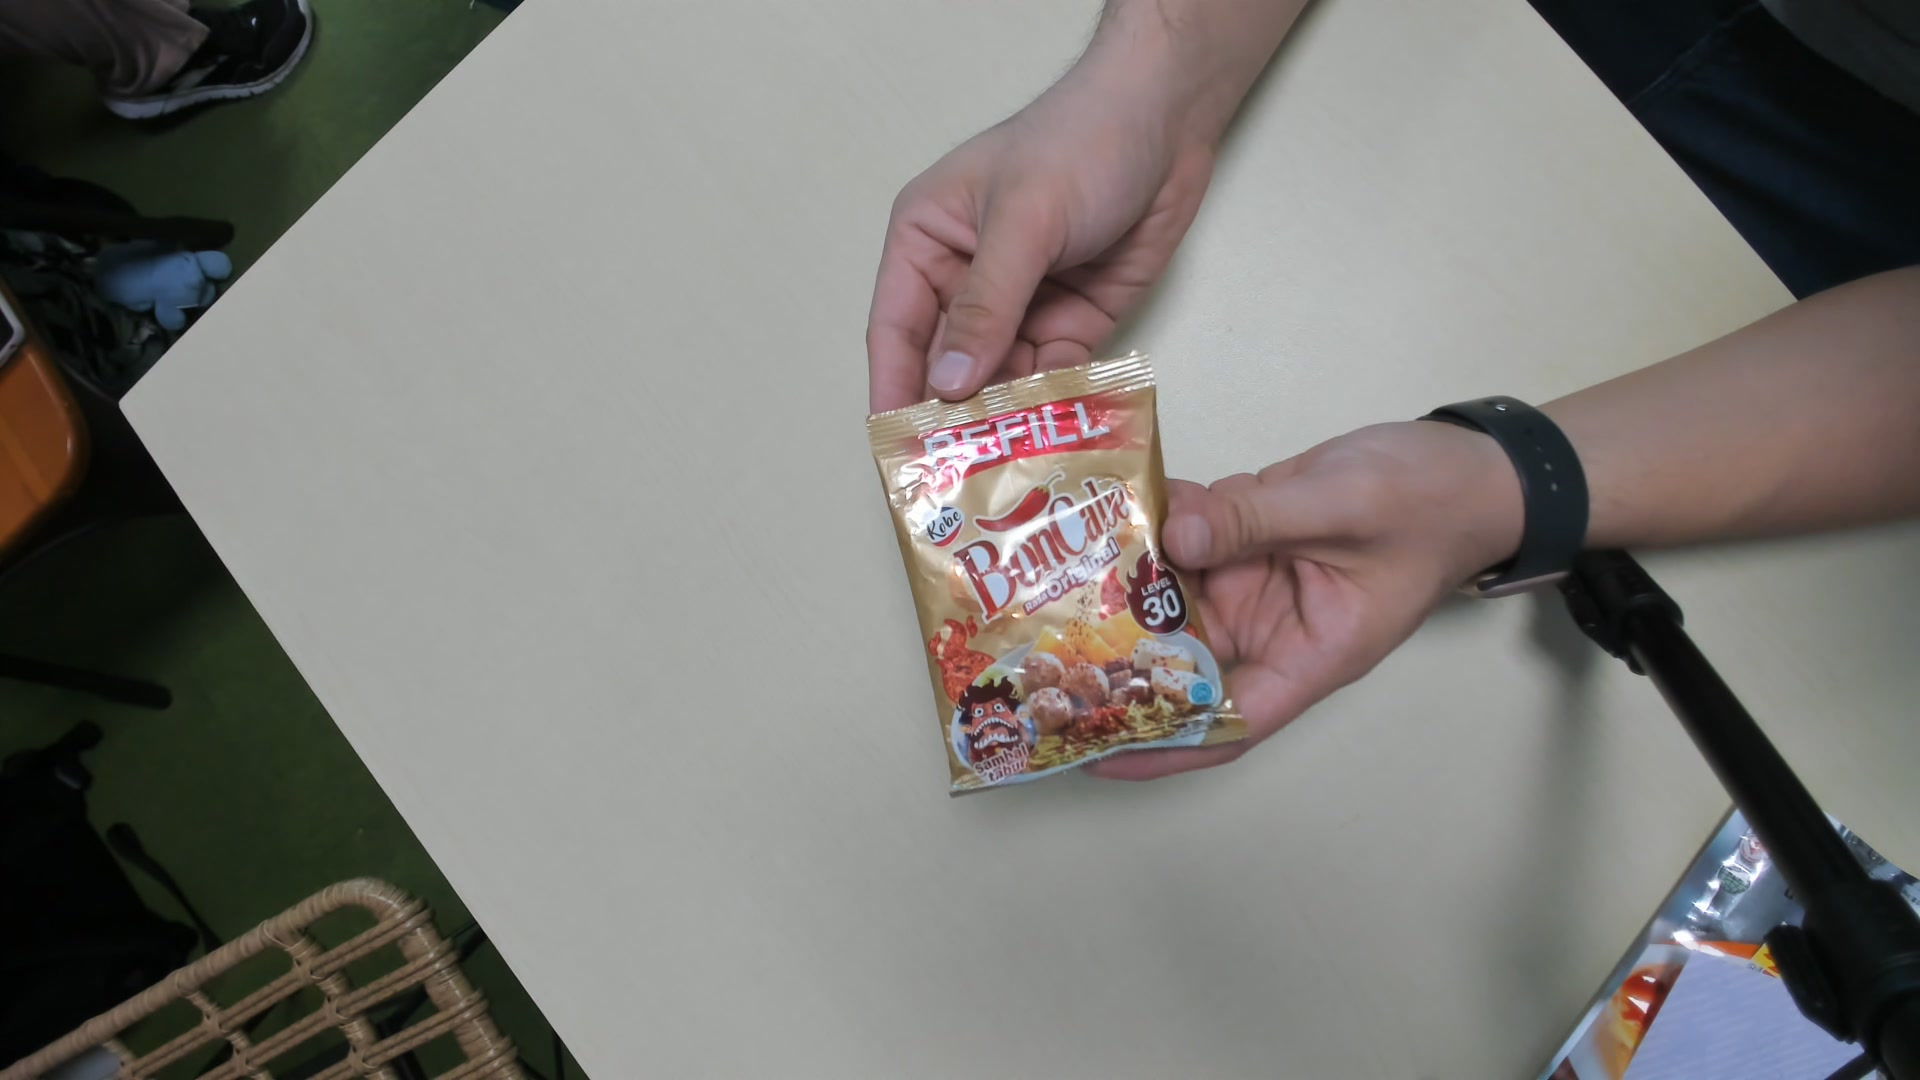CurryPastePowderSauce_0-99g_Halal_NonHealthy: (869, 353, 1247, 794)
